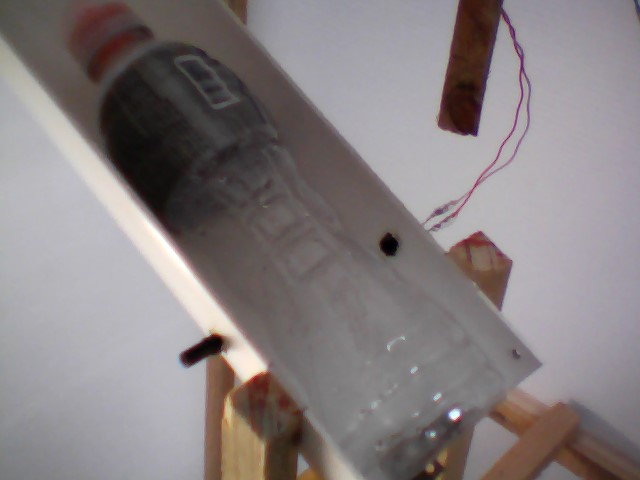plastico: (57, 5, 511, 480)
